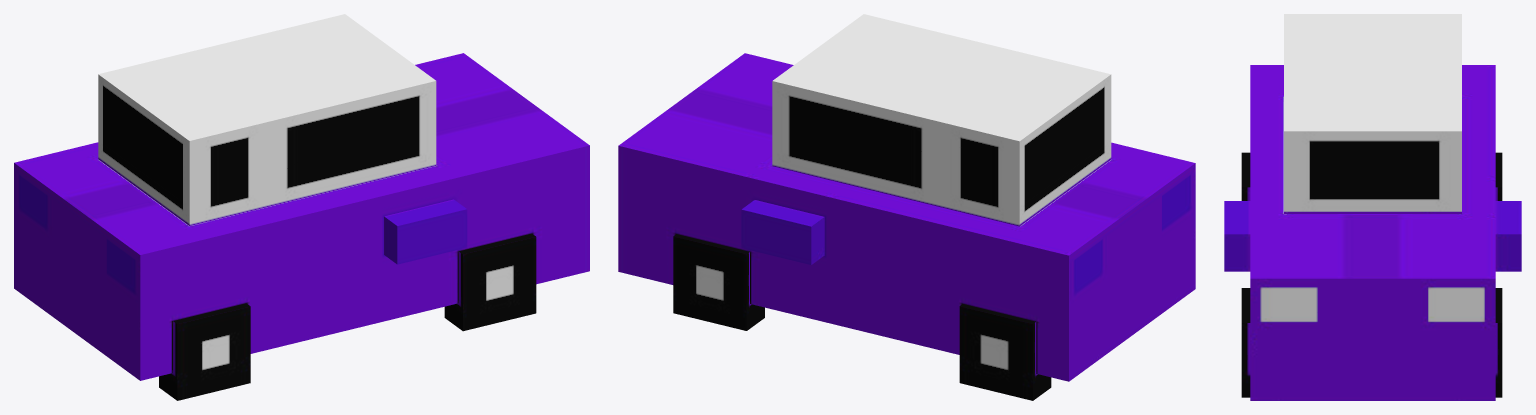
The model's file is car.obj.
The picture shows the model from 3 angles, left to right: view 1: azimuth 30°, elevation 25°; view 2: azimuth 150°, elevation 25°; view 3: azimuth 270°, elevation 25°; orthographic projection. The views are drawn at different scales.
Parts seen in each view (by area): view 1: pCube254; view 2: pCube254; view 3: pCube254.
Part boxes in pixels (<box>): pCube254: <box>14,14,589,400</box>; pCube254: <box>618,14,1195,400</box>; pCube254: <box>1224,14,1521,400</box>.
Size of the model in its own units: 5.14 by 2.57 by 3.03.
